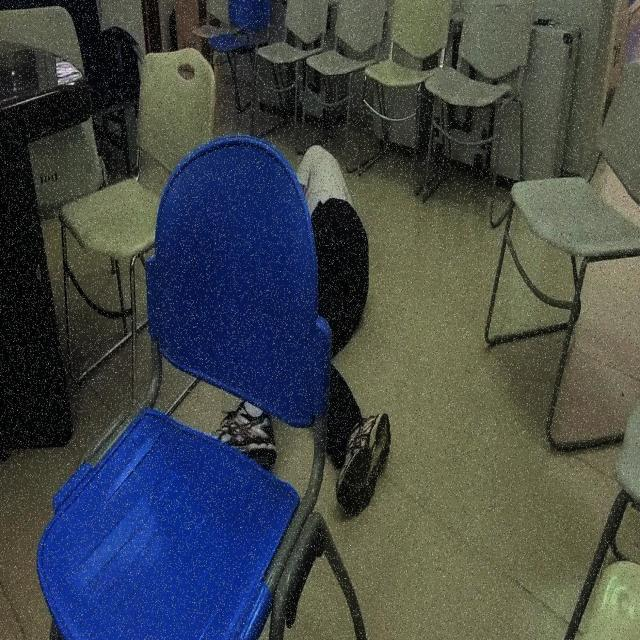fall: (202, 134, 394, 516)
